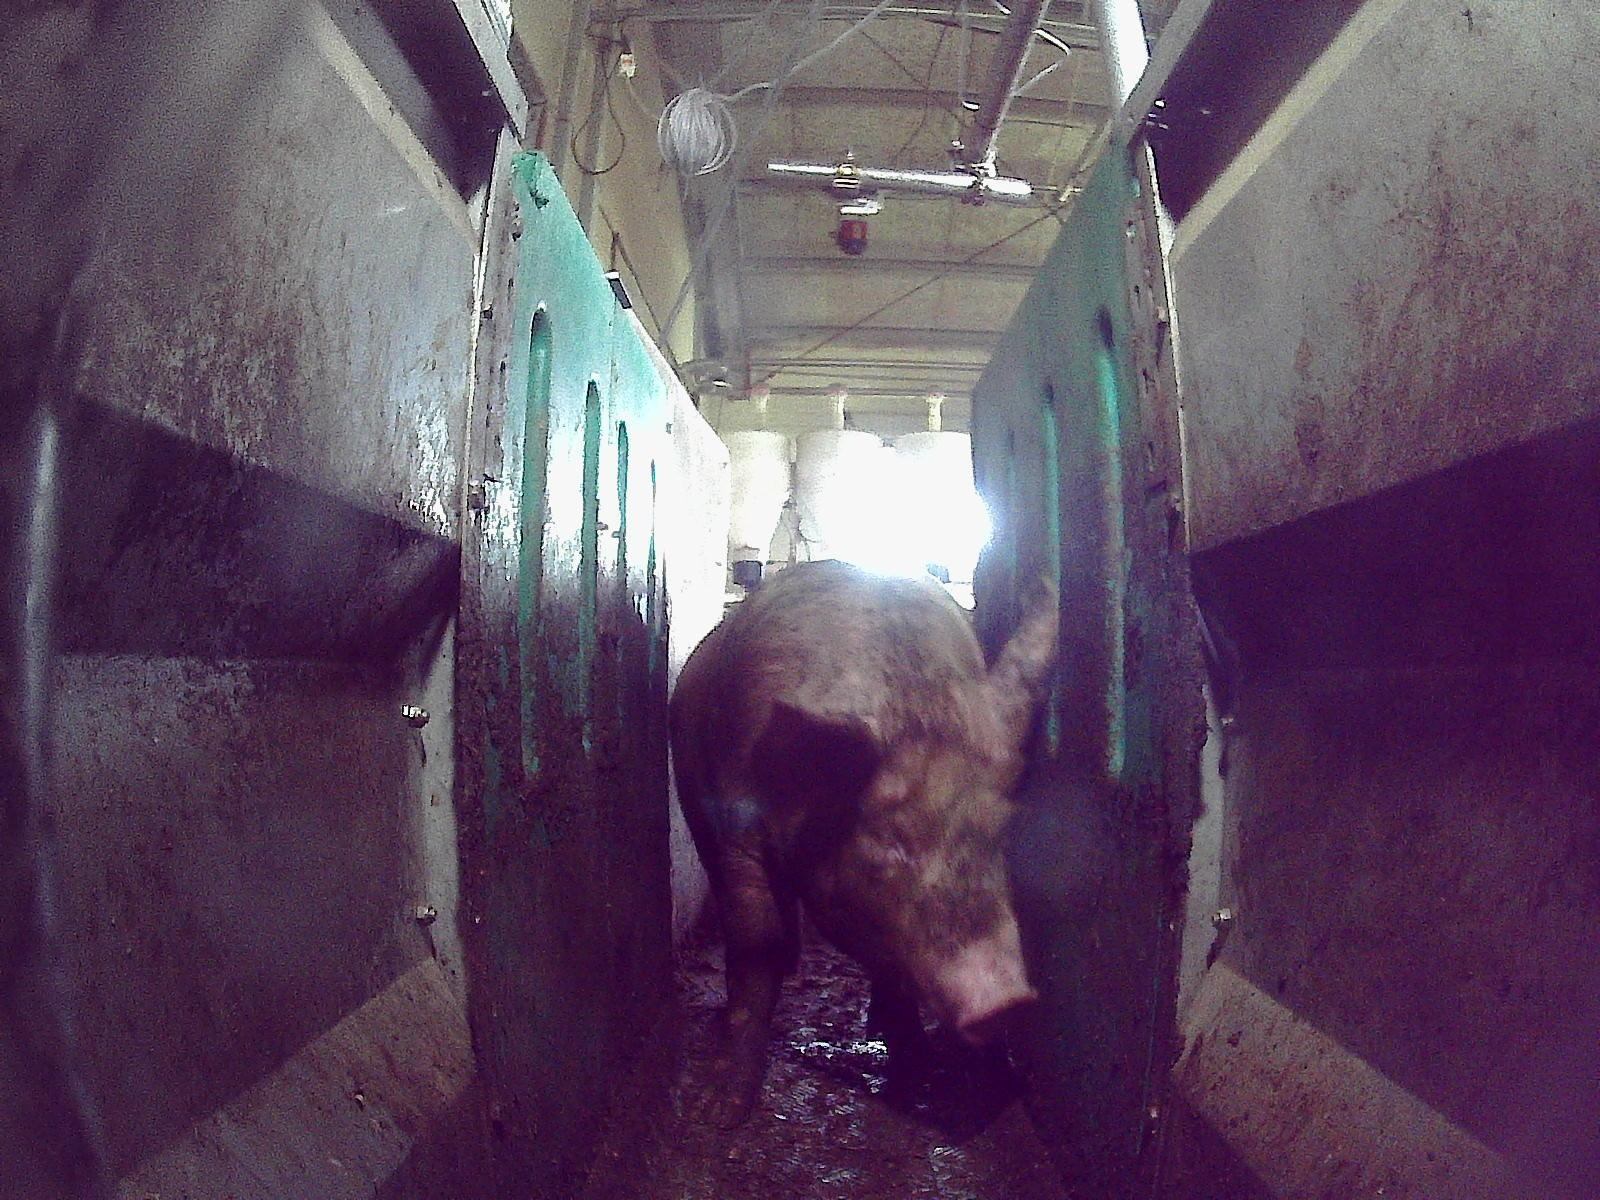Face: (805, 735, 1037, 1046)
